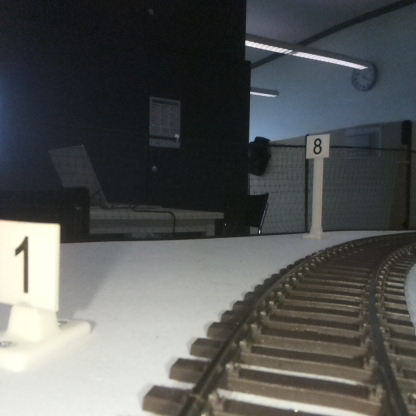white-info-8: (306, 134, 329, 235)
white-stop-1: (0, 223, 60, 366)
